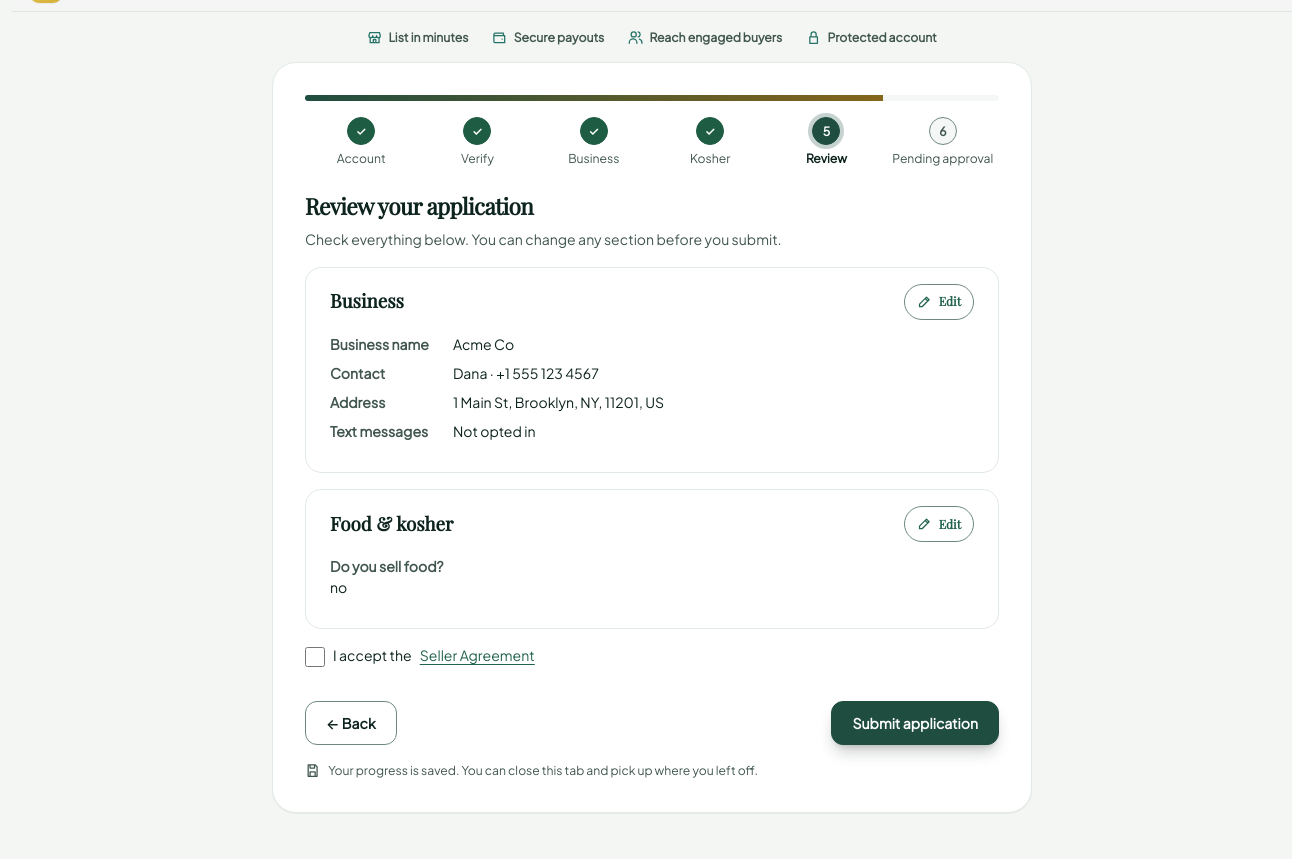
Test: wizard navigation and guards › review requires the Seller Agreement before submitting, then shows the pending screen
The width and height of the screenshot is (1292, 859).
Expected: the text "Acme Co" is shown, [453,335,514,353]
Expected: the number of links "Edit" is 2, [904,284,974,320]; [904,506,974,542]
Click the button "Submit application". click: coordinates (915, 723)
box: [831,701,999,745]
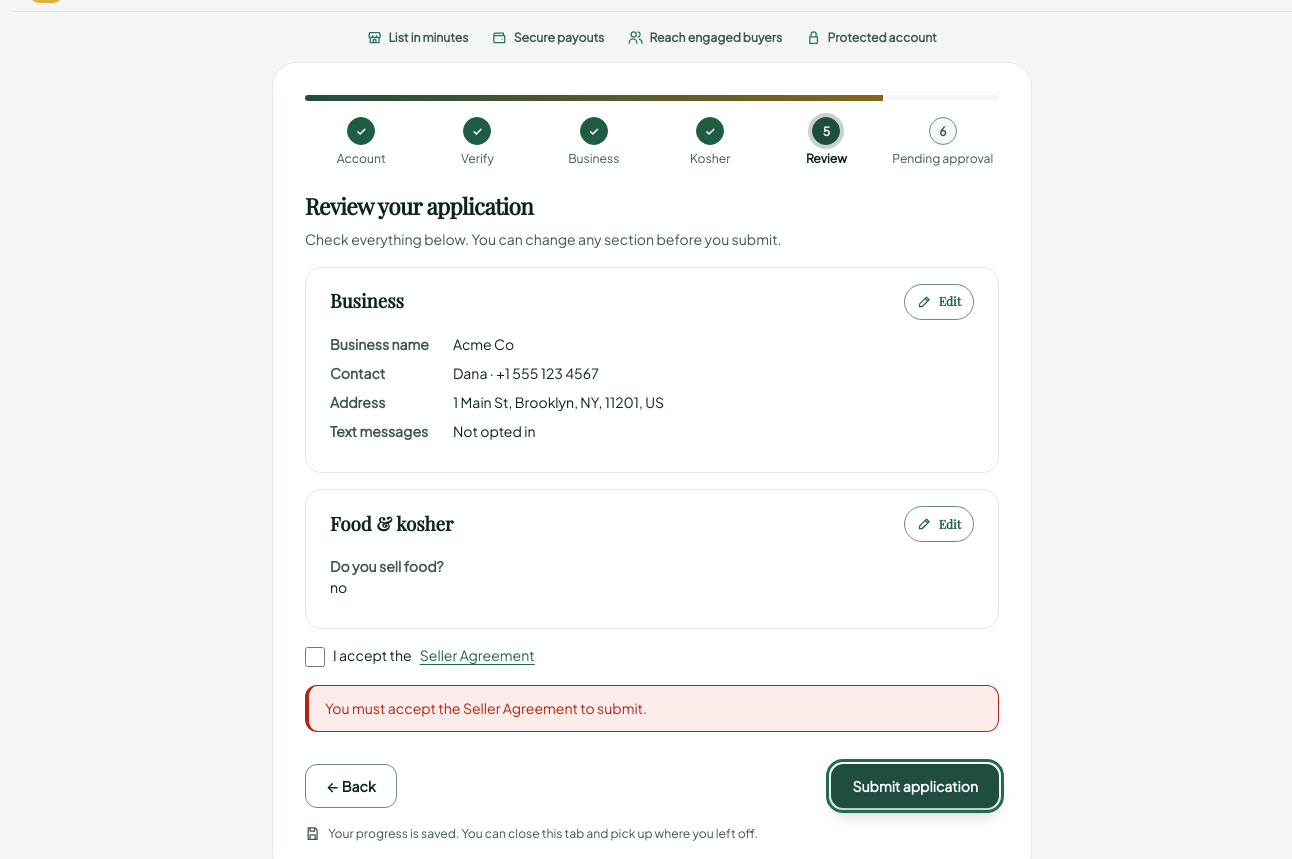
Expected: the text "You must accept the Seller Agreement to submit." is shown, [305,685,999,732]
Click the checkbox labelled "I accept the Seller Agreement". click: coordinates (315, 657)
box: [305,647,325,667]
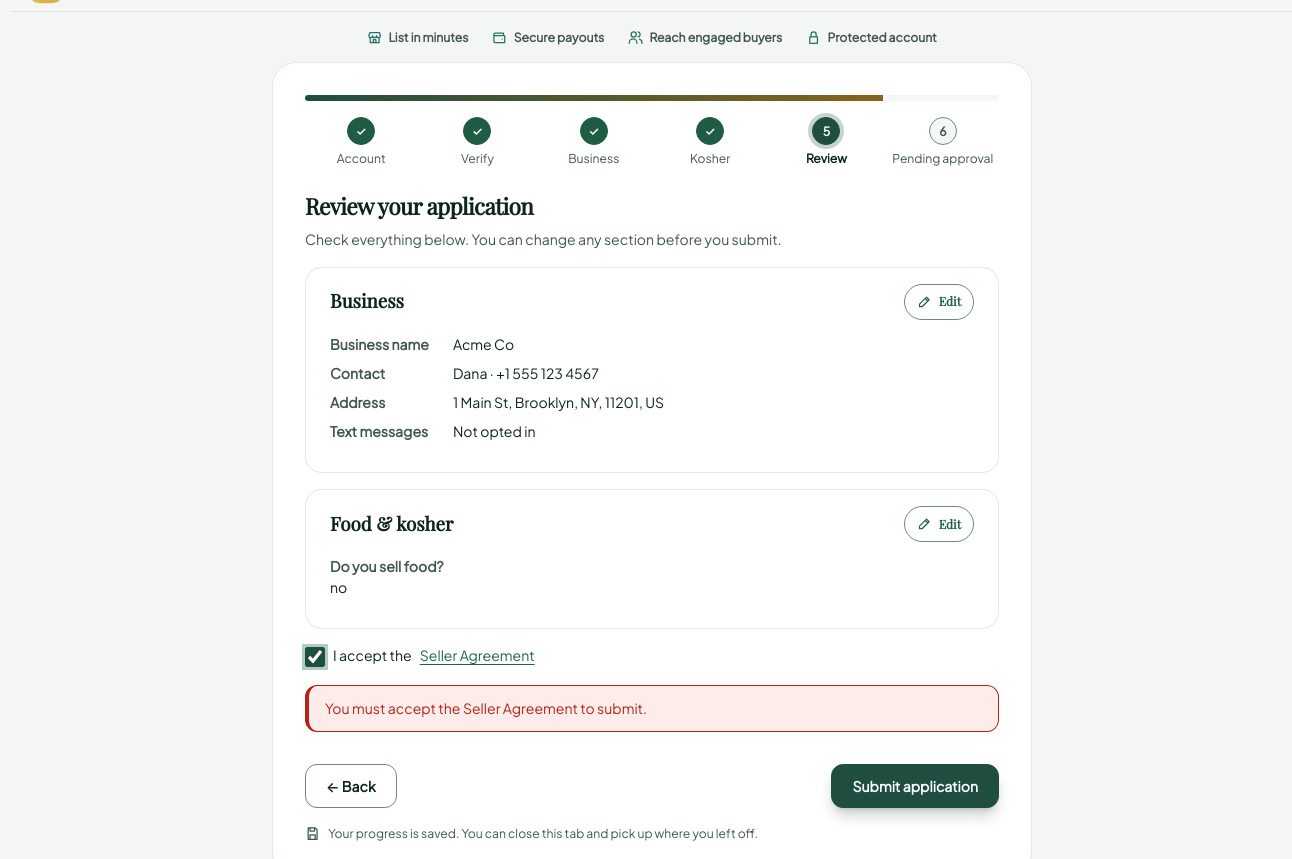
Click the button "Submit application". click: coordinates (915, 786)
box: [831,764,999,808]
(page scrolled)
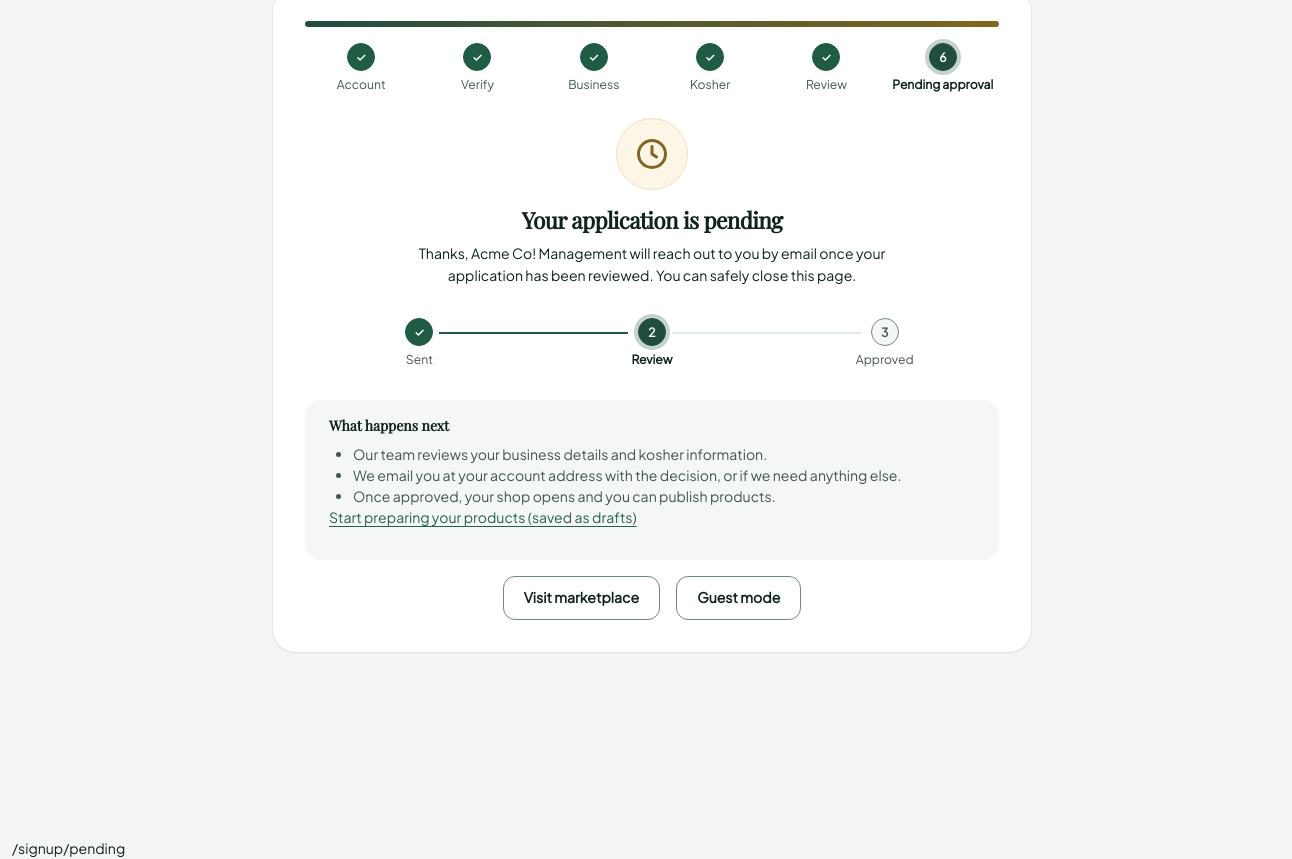
Expected: the text with test id "loc" reads "/signup/pending", [12,839,125,857]
